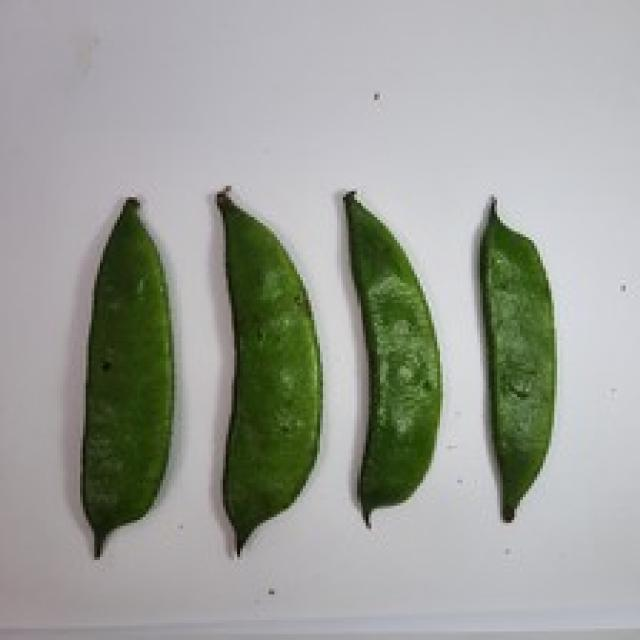Bean: (214, 183, 323, 554), (77, 194, 174, 557), (340, 188, 443, 526), (477, 194, 557, 520)
